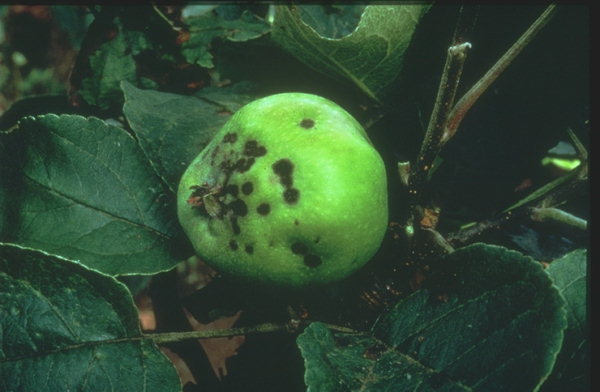defect: (195, 125, 306, 251), (286, 232, 338, 270), (290, 107, 329, 143)
